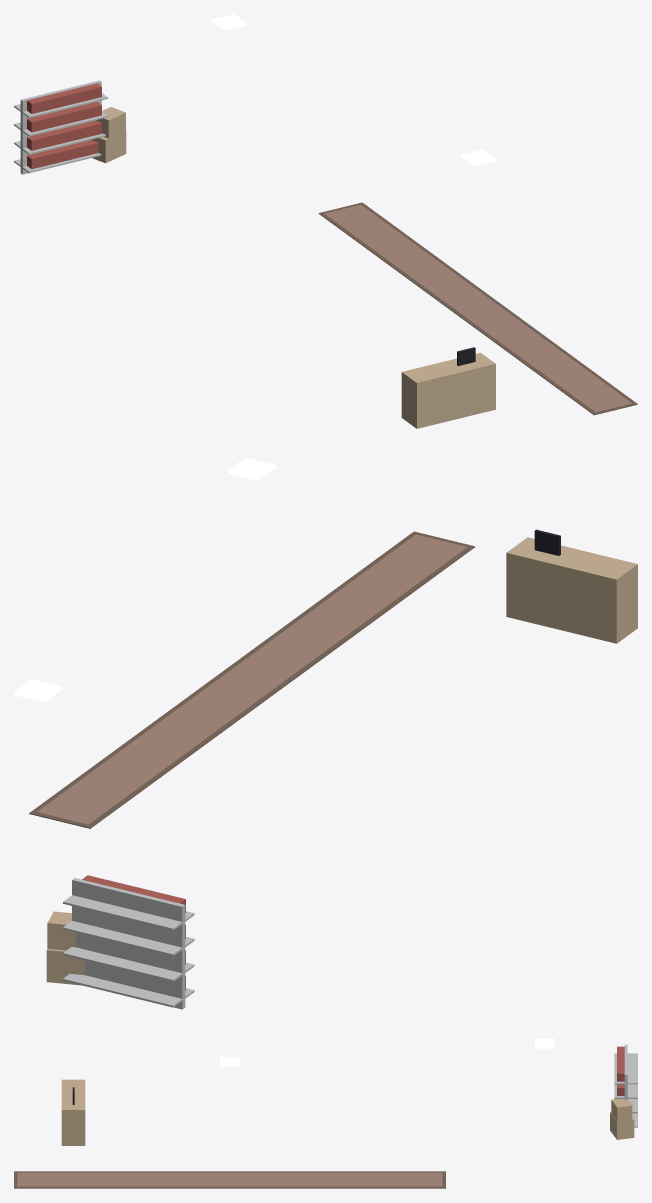
File: fine-s0.glb
3 renders of one model, top to bottom at view 1: azimuth 30°, elevation 25°; view 2: azimuth 150°, elevation 25°; view 3: azimuth 270°, elevation 25°, orthographic. The views are drawn at different scales.
Visible parts, largest first — view 1: soft-s0, shelving.000, shop-counter.000, cardboard-box.000; view 2: soft-s0, shelving.000, shop-counter.000, cardboard-box.000; view 3: soft-s0, shop-counter.000, shelving.000, cardboard-box.000.
Part boxes in pixels (<box>): soft-s0: <box>318,202,637,415</box>; shelving.000: <box>14,80,108,174</box>; shop-counter.000: <box>401,347,495,428</box>; cardboard-box.000: <box>91,107,126,163</box>; soft-s0: <box>29,531,475,828</box>; shelving.000: <box>63,875,194,1009</box>; shop-counter.000: <box>506,529,637,643</box>; cardboard-box.000: <box>46,911,84,985</box>; soft-s0: <box>14,1171,445,1188</box>; shop-counter.000: <box>61,1079,85,1145</box>; shelving.000: <box>614,1044,637,1127</box>; cardboard-box.000: <box>610,1099,634,1139</box>.
Size of the model in its own units: 5.15 by 3.32 by 15.72.
